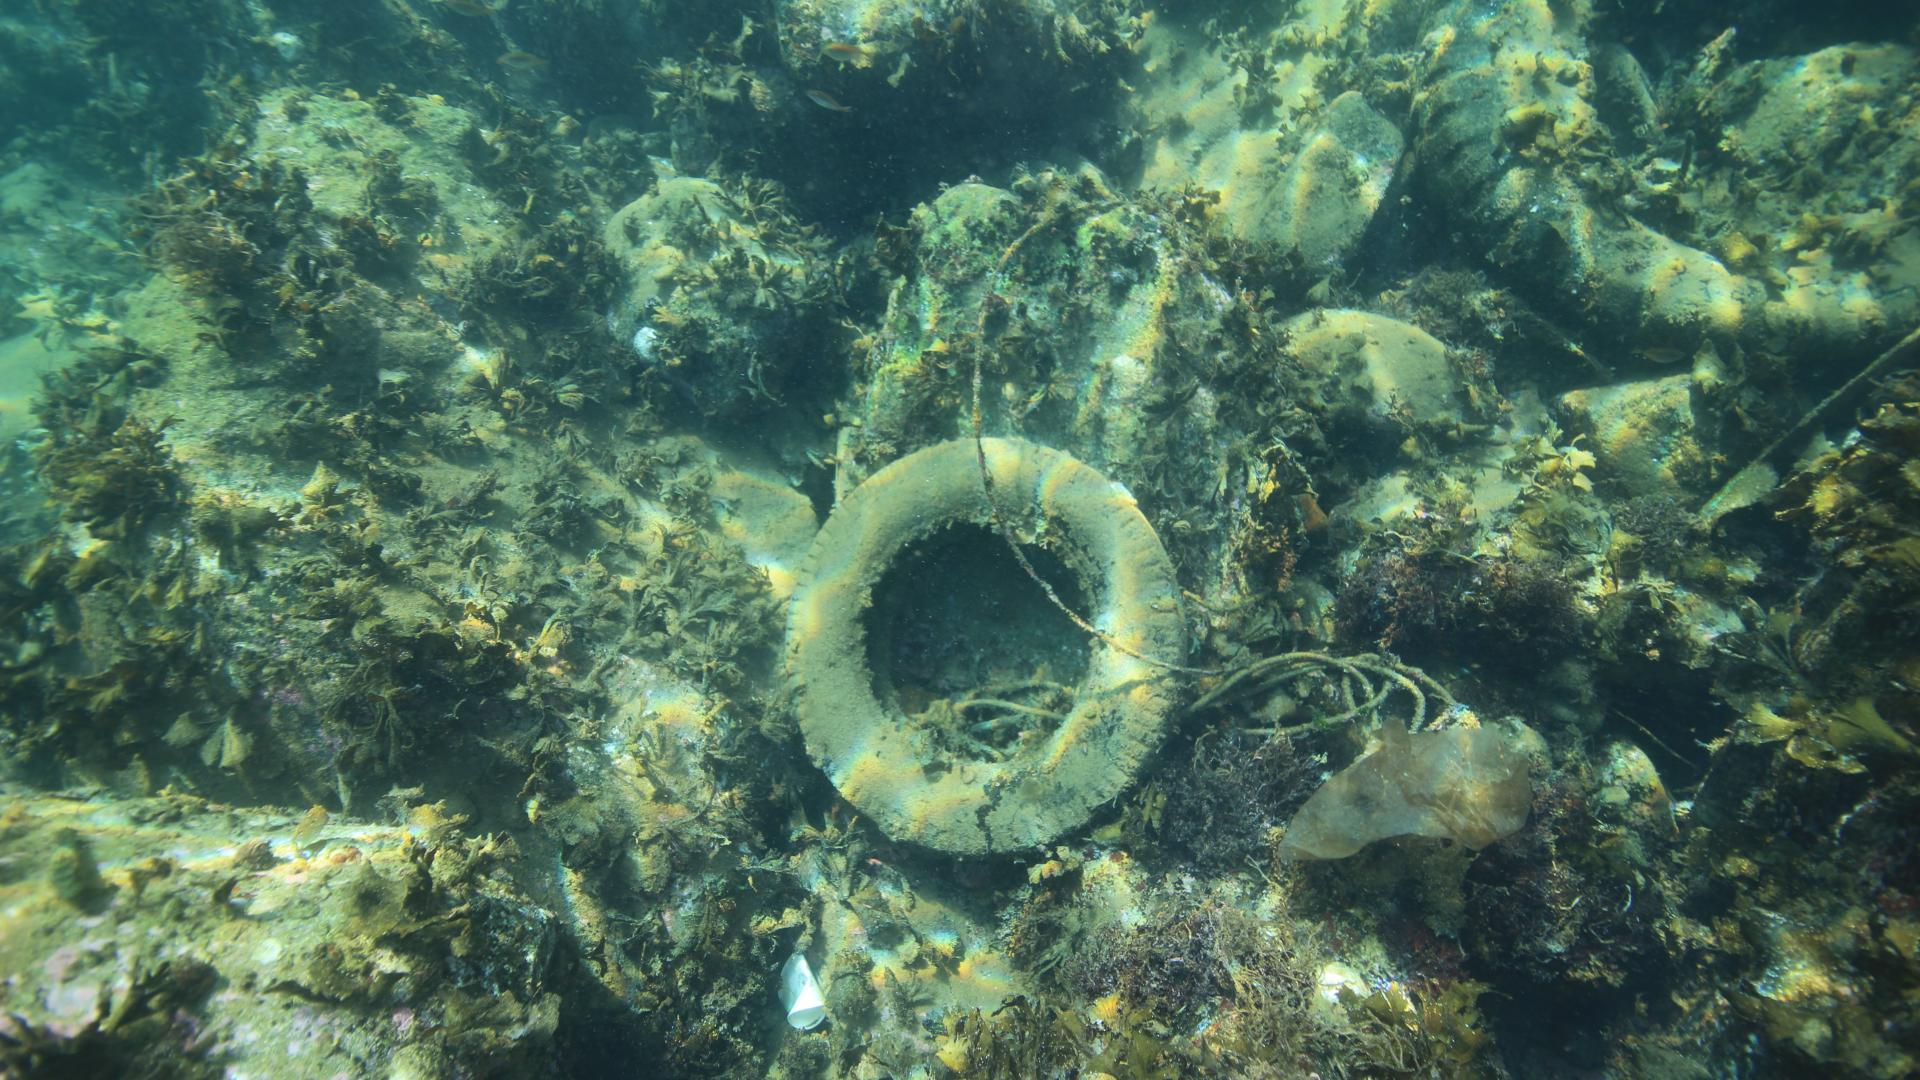tire: (775, 431, 1193, 858)
